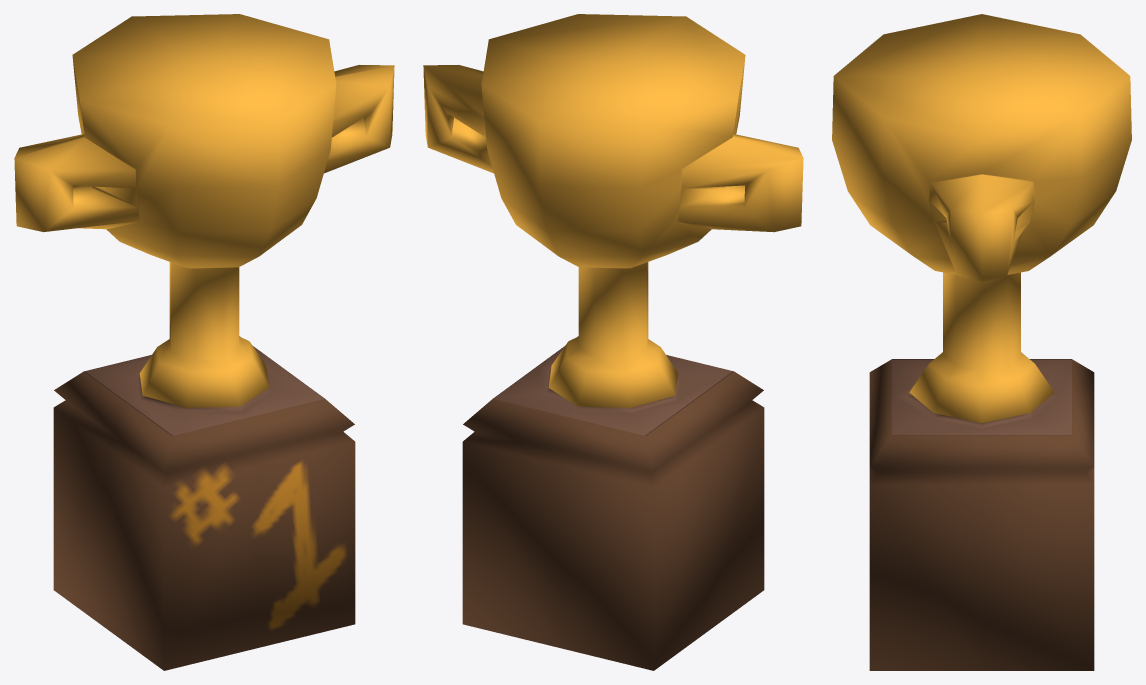
The model's file is trophy.fbx.
The picture shows the model from 3 angles, left to right: view 1: azimuth 30°, elevation 25°; view 2: azimuth 150°, elevation 25°; view 3: azimuth 270°, elevation 25°; orthographic projection.
Visible parts, largest first — view 1: Trophy; view 2: Trophy; view 3: Trophy.
Part boxes in pixels (<box>): Trophy: <box>14,14,394,670</box>; Trophy: <box>423,14,803,670</box>; Trophy: <box>832,14,1131,670</box>.
Bounding box in the file's own units: 230 × 154 × 311.
